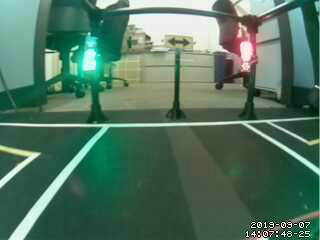Left_Right_sign: (165, 34, 195, 50)
Traffic_light_green: (84, 37, 96, 71)
Traffic_light_red: (239, 42, 253, 71)
